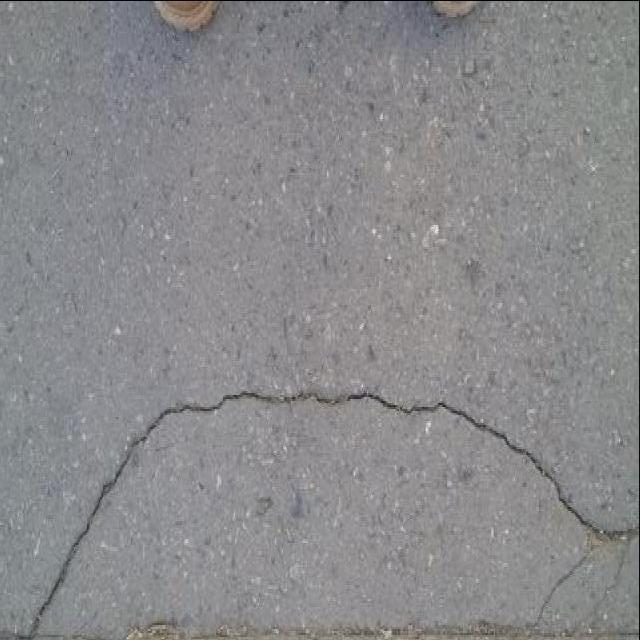crack: (19, 387, 635, 639), (12, 398, 194, 640), (132, 399, 282, 479)
dampens: (428, 399, 525, 450), (102, 417, 164, 477), (207, 388, 322, 415), (319, 388, 432, 415), (414, 398, 475, 428), (165, 398, 237, 420), (98, 476, 119, 498)
